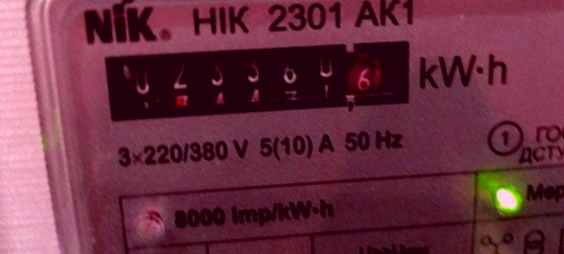0: (130, 62, 152, 96), (313, 48, 335, 79)
2: (169, 57, 189, 90)
3: (243, 50, 262, 83), (205, 56, 224, 87)
6: (278, 52, 299, 85), (353, 61, 374, 94)
screen: (88, 31, 426, 126)
